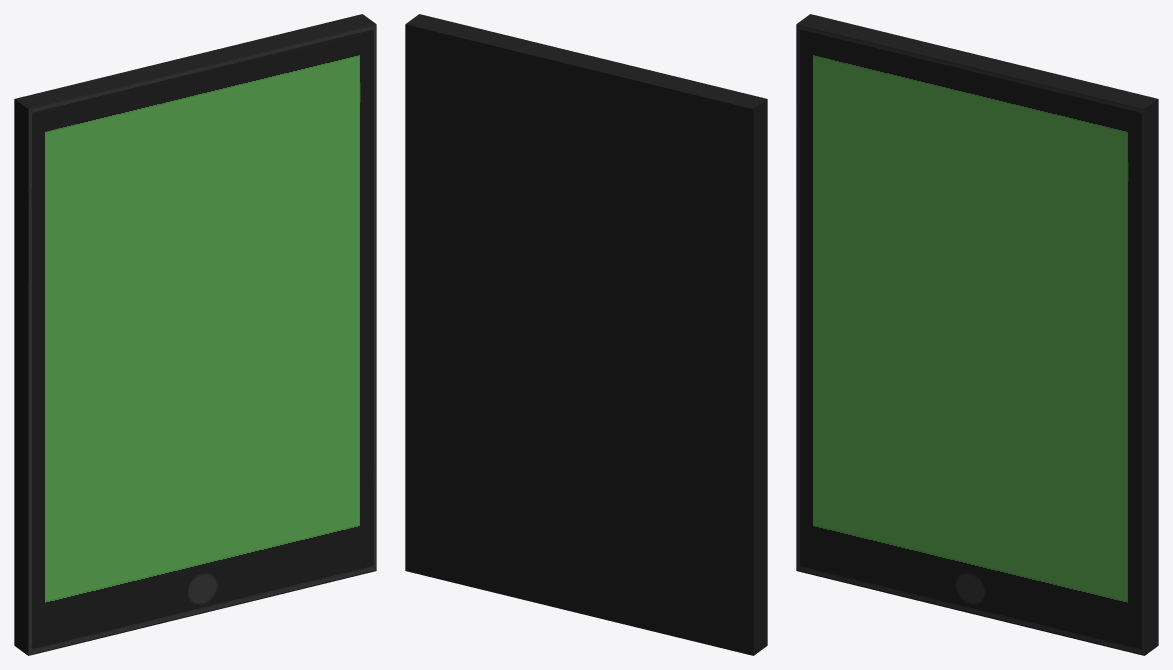
Rendered from phone.glb.
The picture shows the model from 3 angles, left to right: view 1: azimuth 30°, elevation 25°; view 2: azimuth 150°, elevation 25°; view 3: azimuth 330°, elevation 25°; orthographic projection.
Parts seen in each view (by area): view 1: Cube; view 2: Cube; view 3: Cube.
Boxes of the visible parts, left/top/right/bottom form: Cube: left=14, top=14, right=376, bottom=655; Cube: left=405, top=14, right=767, bottom=655; Cube: left=796, top=14, right=1158, bottom=655.
Bounding box in the file's own units: 4 × 6 × 0.28.
Materials: 1 (1 with a texture image).
